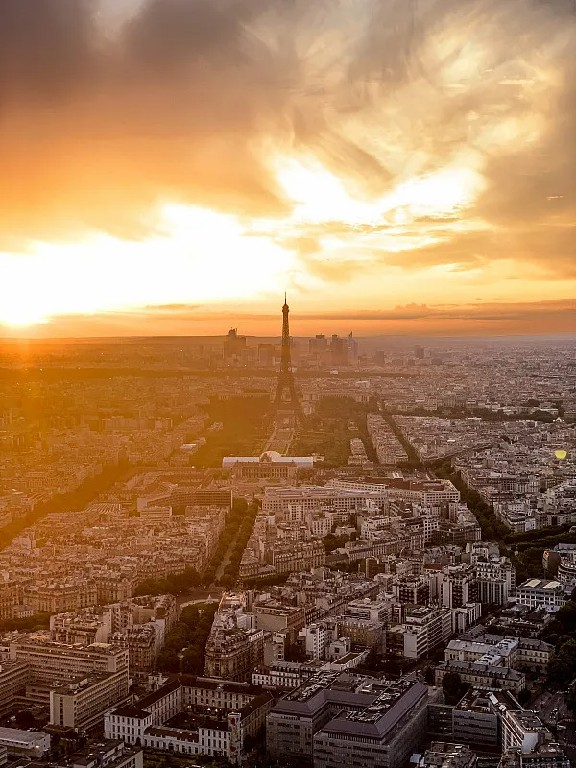Eiffel: (266, 290, 307, 425)
